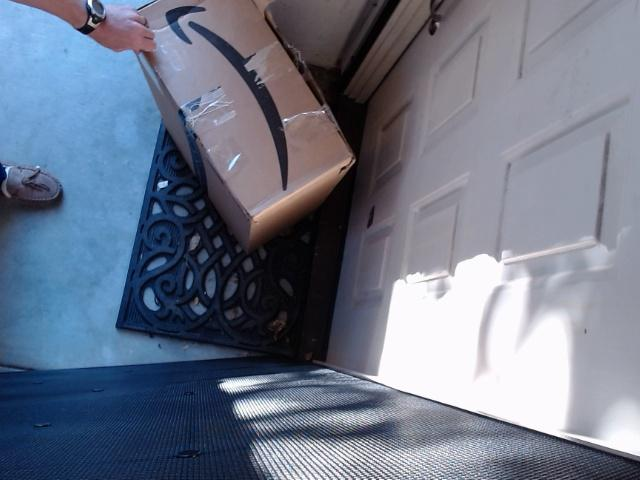box: (121, 0, 390, 255)
